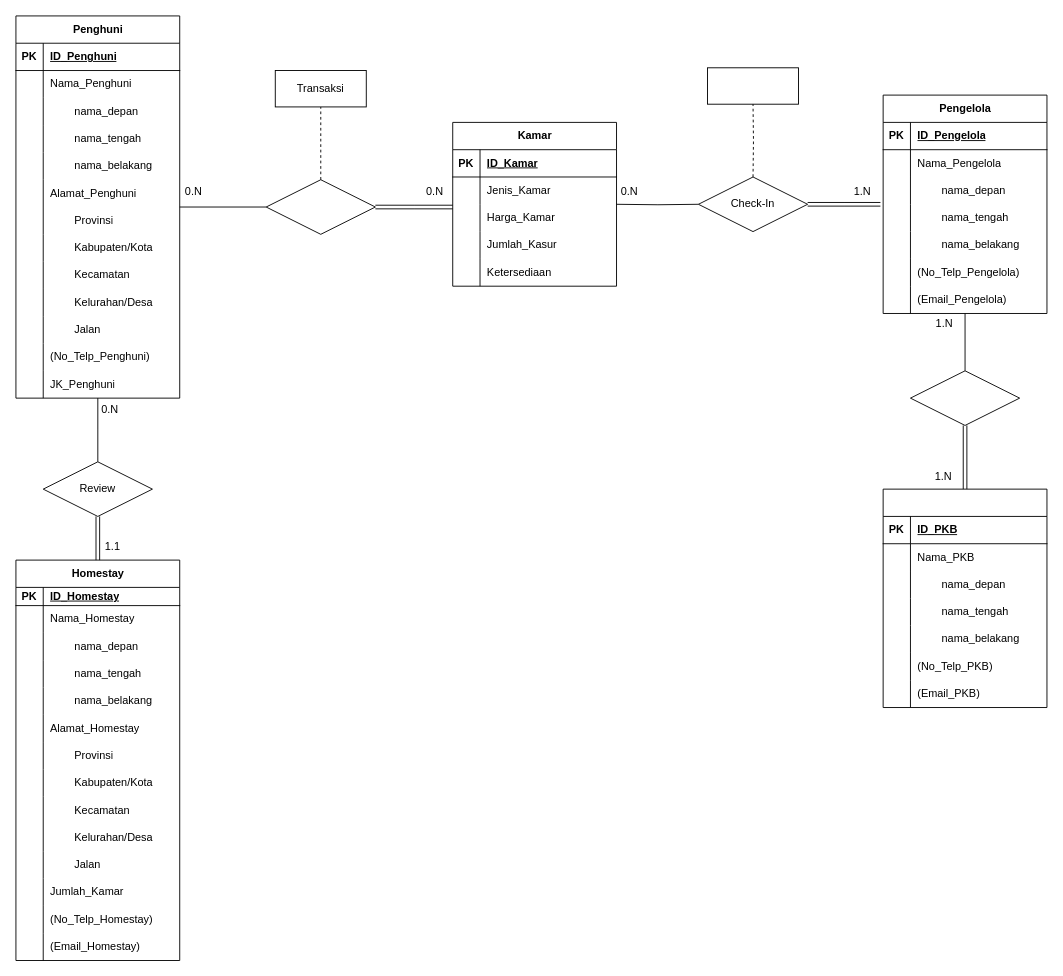
Some shapes in this 1063 by 976 pixel diagram are drawn without their labels. The box of each missing label's shape, as (x1, y1, x2, y2) in pixels:
Check-out: (910, 370, 1020, 425)
Fasilitas Layanan: (707, 67, 799, 104)
Petugas_Kebersihan: (882, 488, 1047, 708)
Reservasi: (265, 179, 375, 234)
